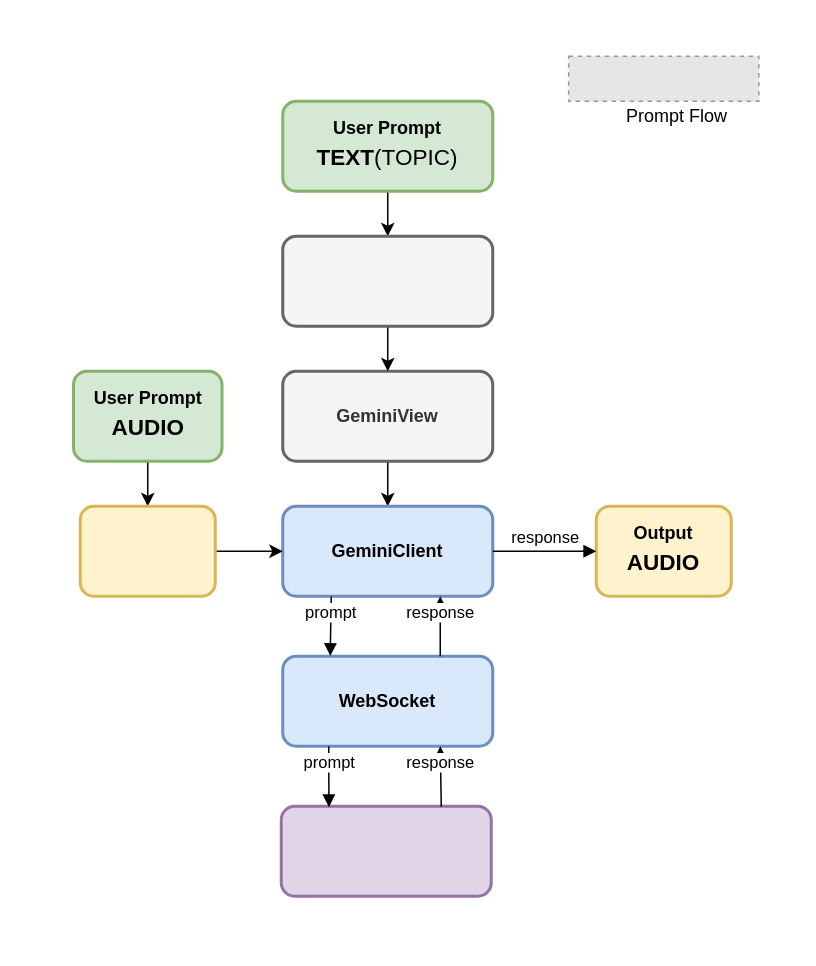
Image size: 816x966. Some labels were removed from this diagram. Grey dashed boxes stand in for pictures. The shapes that lost their labels are listed below. From the top down, each one's box as (x1, y1, x2, y2) in pixels, then its label:
(280, 234, 494, 327): GeminiSelection
(78, 504, 216, 597): Input AUDIO
(279, 804, 492, 897): Gemini
